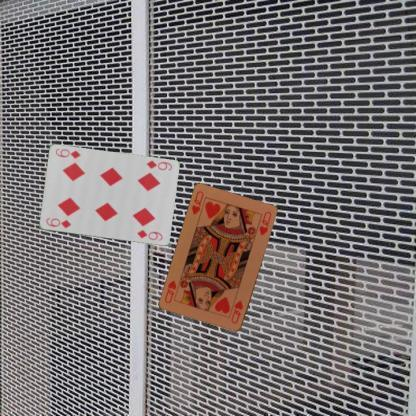6d: (144, 158, 173, 172), (44, 216, 72, 230)
Qh: (228, 298, 245, 325), (189, 188, 205, 216)
